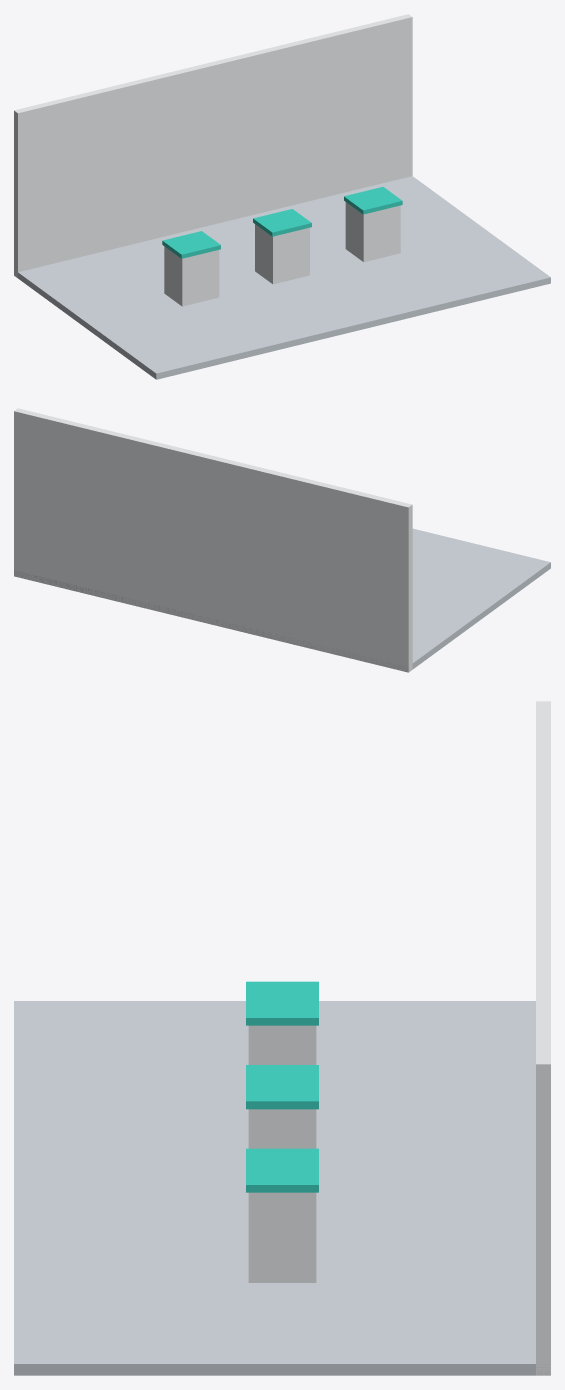
3 views of the same model, one above another, from view 1: azimuth 30°, elevation 25°; view 2: azimuth 150°, elevation 25°; view 3: azimuth 270°, elevation 25° (orthographic). The views are drawn at different scales.
Parts seen in each view (by area): view 1: Exhibition Booth Concept; view 2: Exhibition Booth Concept; view 3: Exhibition Booth Concept.
Boxes of the visible parts, box(x1,y1,x2,y2) form: Exhibition Booth Concept: box(14, 14, 550, 379); Exhibition Booth Concept: box(14, 408, 550, 672); Exhibition Booth Concept: box(14, 701, 550, 1375).
Size of the model in its own units: 8 by 3.2 by 5.
